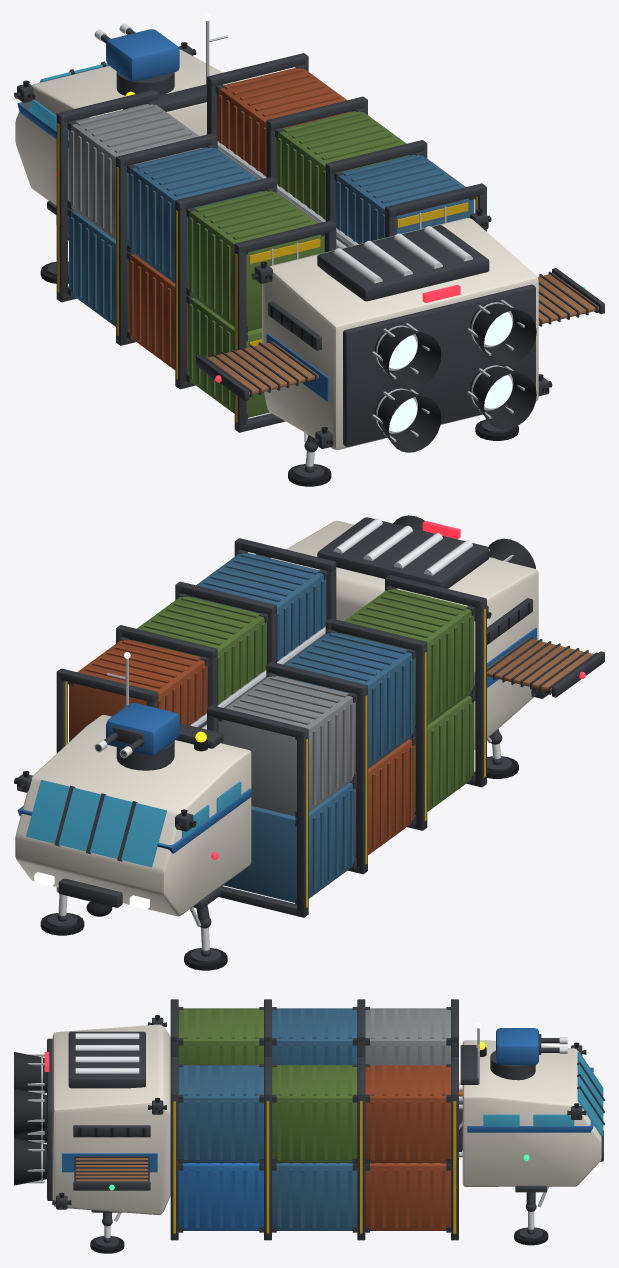
File: hauler.glb
3 views of the same model, one above another, from view 1: azimuth 30°, elevation 25°; view 2: azimuth 150°, elevation 25°; view 3: azimuth 270°, elevation 25° (orthographic). The views are drawn at different scales.
Visible parts, largest first — view 1: HaulerHull; view 2: HaulerHull; view 3: HaulerHull.
Part boxes in pixels (bbox=[...]): HaulerHull: bbox=[14, 14, 604, 486]; HaulerHull: bbox=[14, 515, 604, 970]; HaulerHull: bbox=[14, 999, 604, 1253].
Size of the model in its own units: 14.75 by 9.82 by 25.94.
